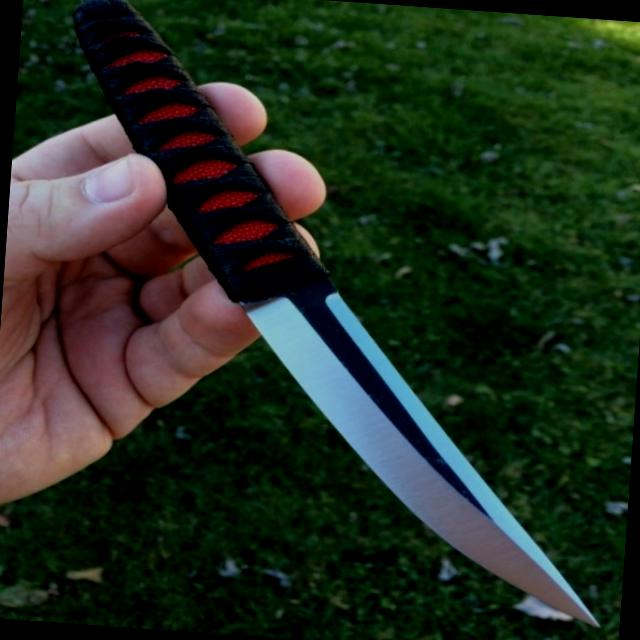knife: (31, 67, 639, 637)
